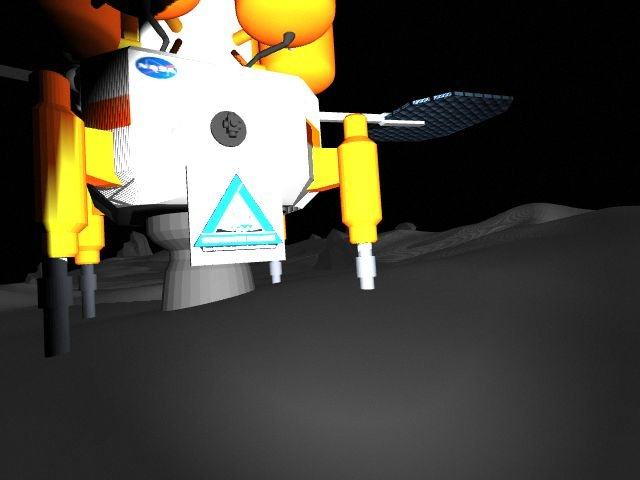basemarker: (193, 173, 284, 252)
